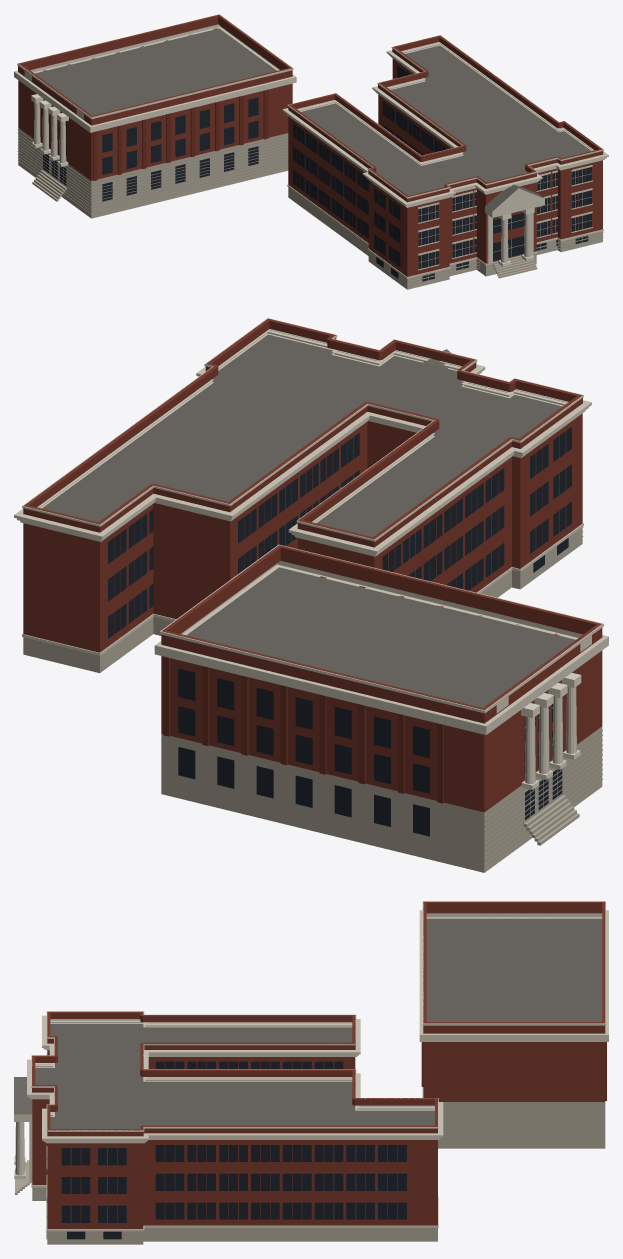
The model's file is little-rock-high-school-1913.glb.
3 renders of one model, top to bottom at view 1: azimuth 30°, elevation 25°; view 2: azimuth 150°, elevation 25°; view 3: azimuth 270°, elevation 25°, orthographic. The views are drawn at different scales.
Visible parts, largest first — view 1: little_brick, little_roof, little_stone, little_glass, little_base, little_joint, little_brick2, little_sash, little_trim; view 2: little_brick, little_roof, little_stone, little_glass, little_base, little_brick2, little_joint, little_trim; view 3: little_brick, little_roof, little_stone, little_glass, little_base.
Part boxes in pixels (x1,y1,x2,y2): little_brick: [18, 14, 603, 276]; little_roof: [35, 28, 591, 211]; little_stone: [14, 14, 608, 278]; little_glass: [42, 65, 591, 281]; little_base: [18, 128, 602, 289]; little_joint: [17, 130, 603, 285]; little_brick2: [43, 28, 268, 180]; little_sash: [43, 122, 591, 279]; little_trim: [31, 94, 534, 266]; little_brick: [23, 318, 602, 812]; little_roof: [42, 334, 575, 707]; little_stone: [14, 318, 608, 783]; little_glass: [108, 427, 571, 836]; little_base: [23, 527, 602, 872]; little_brick2: [163, 576, 559, 803]; little_joint: [484, 527, 602, 865]; little_trim: [521, 673, 581, 789]; little_brick: [32, 901, 605, 1228]; little_roof: [14, 918, 602, 1128]; little_stone: [14, 901, 608, 1231]; little_glass: [61, 1061, 406, 1239]; little_base: [15, 1102, 605, 1244].
Bounding box in the file's own units: 70.67 × 18.3 × 78.61.
